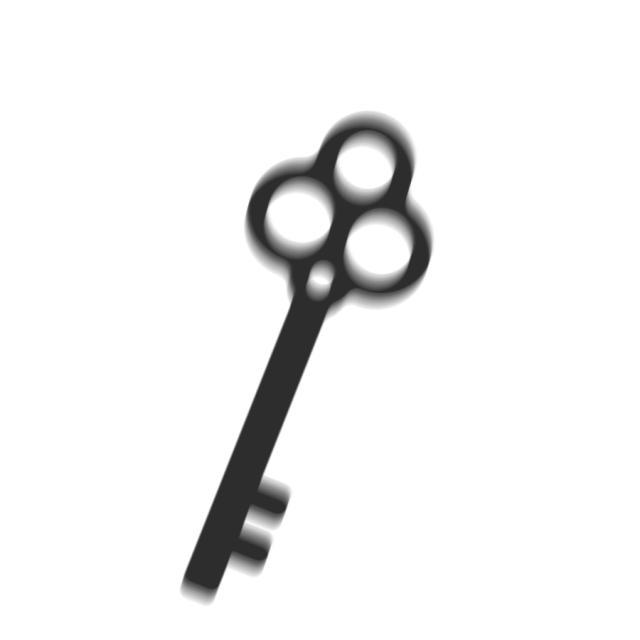key: (168, 110, 441, 619)
